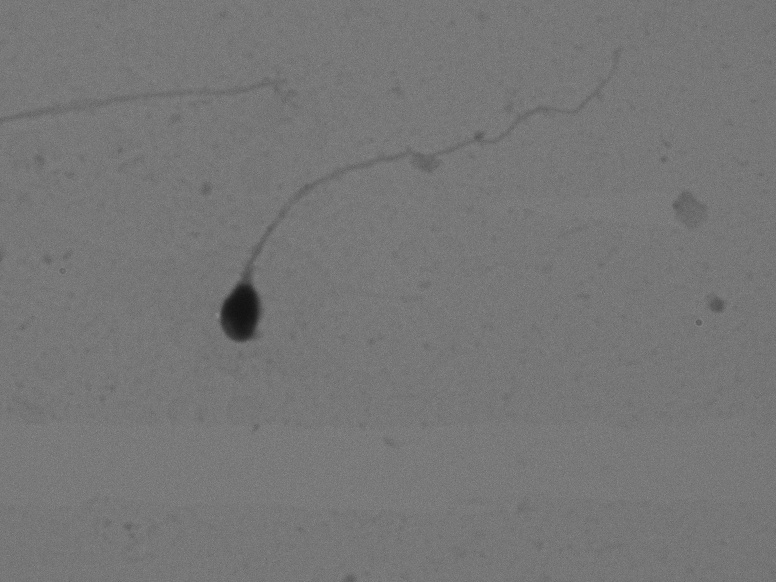Normal: (182, 35, 654, 373)
